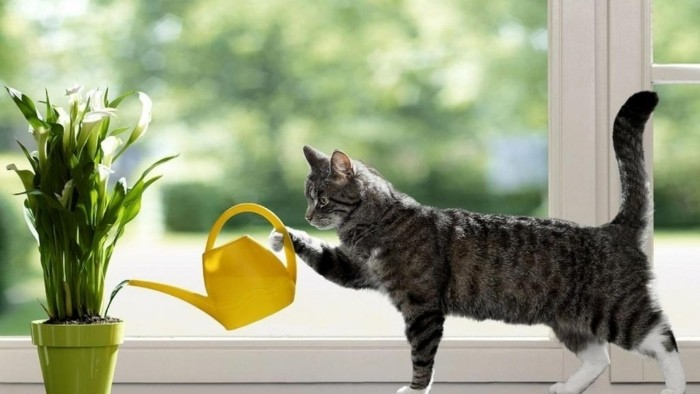cat: (265, 73, 691, 394)
plant: (4, 65, 165, 394)
